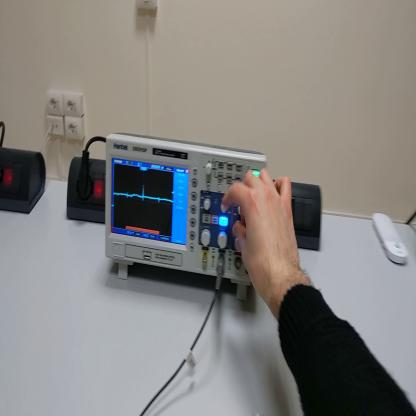hand: (222, 165, 304, 303)
oscilloscope: (107, 131, 270, 303)
socket: (1, 144, 47, 217), (65, 156, 105, 225)
